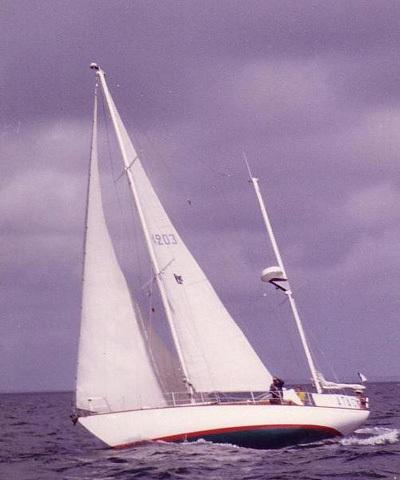Ship: (73, 60, 370, 448)
